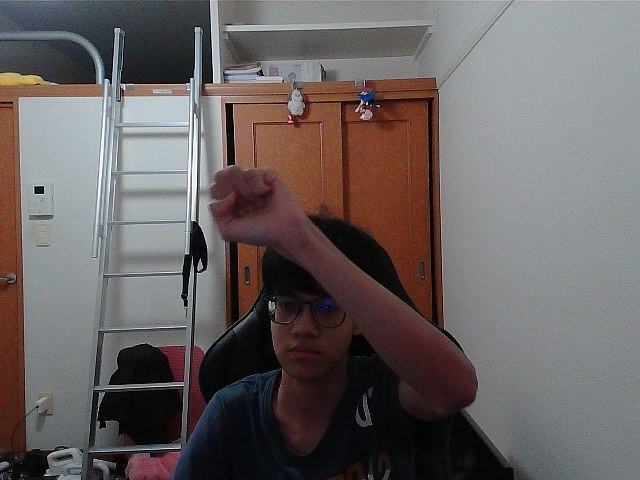closed_palm: (215, 174, 279, 235)
